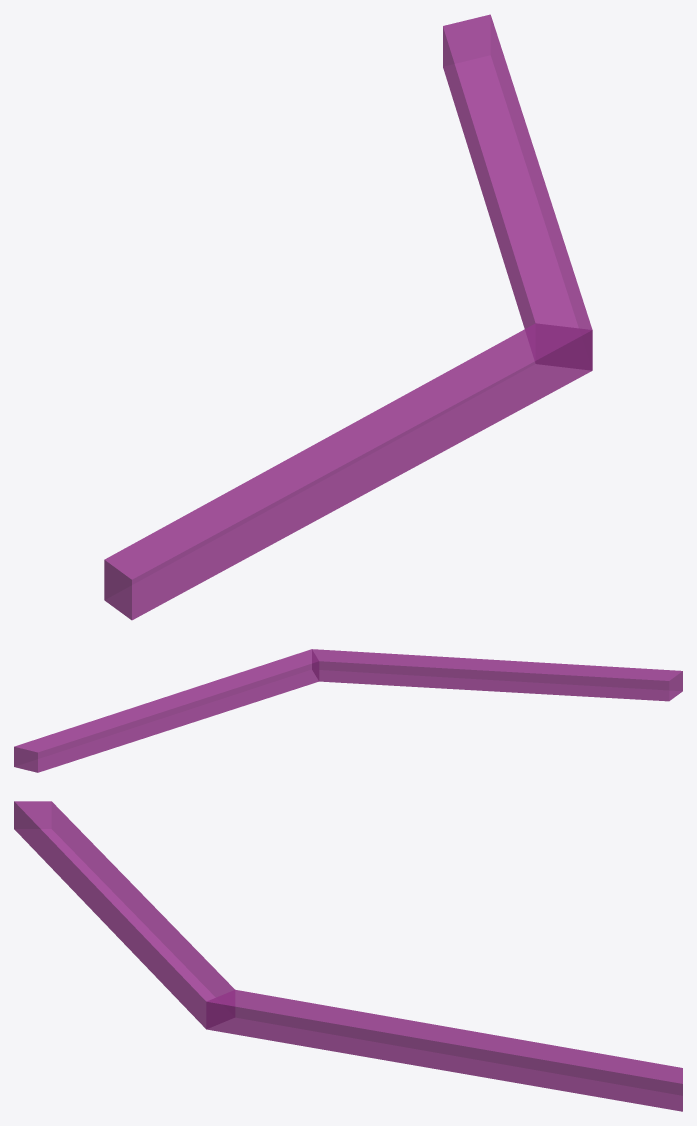
The model's file is SM_Bld_Wall_Curved_Large_Trim_02_Collision.fbx.
3 renders of one model, top to bottom at view 1: azimuth 30°, elevation 25°; view 2: azimuth 150°, elevation 25°; view 3: azimuth 270°, elevation 25°, orthographic. The views are drawn at different scales.
Visible parts, largest first — view 1: SM_Bld_Wall_Curved_Large_Trim_02_Collision; view 2: SM_Bld_Wall_Curved_Large_Trim_02_Collision; view 3: SM_Bld_Wall_Curved_Large_Trim_02_Collision.
Part boxes in pixels (box(x1,y1,x2,y2)): SM_Bld_Wall_Curved_Large_Trim_02_Collision: box(104, 14, 592, 620); SM_Bld_Wall_Curved_Large_Trim_02_Collision: box(14, 649, 682, 772); SM_Bld_Wall_Curved_Large_Trim_02_Collision: box(14, 801, 682, 1111).
Bounding box in the file's own units: 530 × 24.34 × 530.
